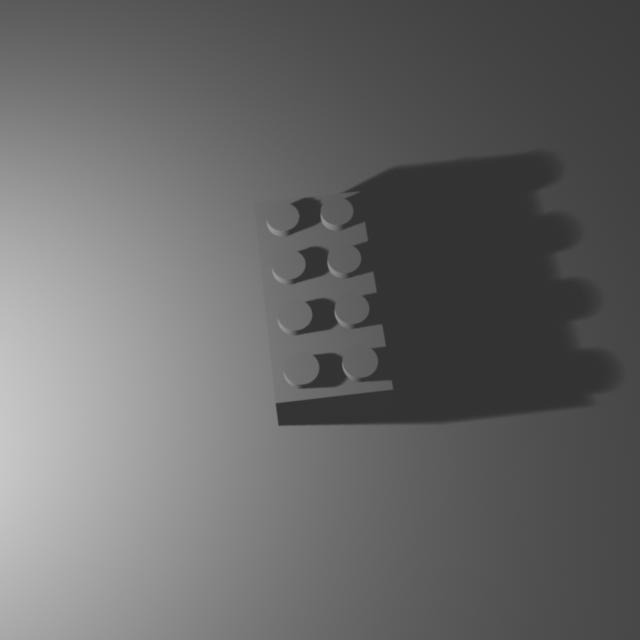lego_2x4: (253, 185, 394, 426)
